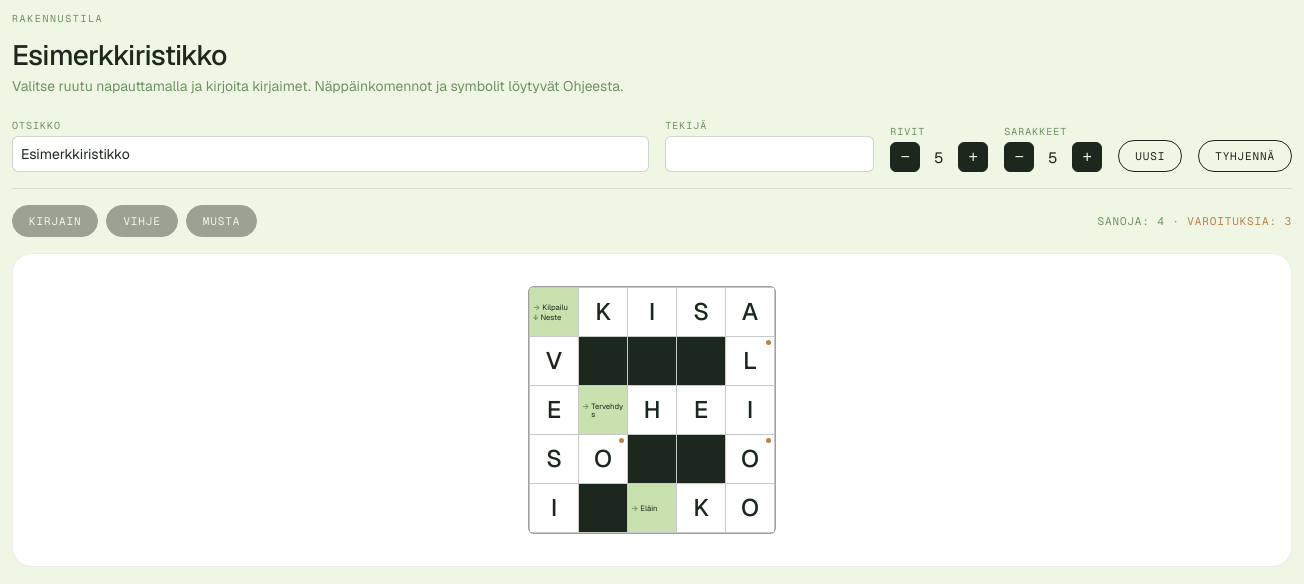
BuildMode — letter entry › types a letter into the selected letter cell
The image size is (1304, 584).
Click the 1st cell "K". click: [603, 312]
box: [579,288,627,336]
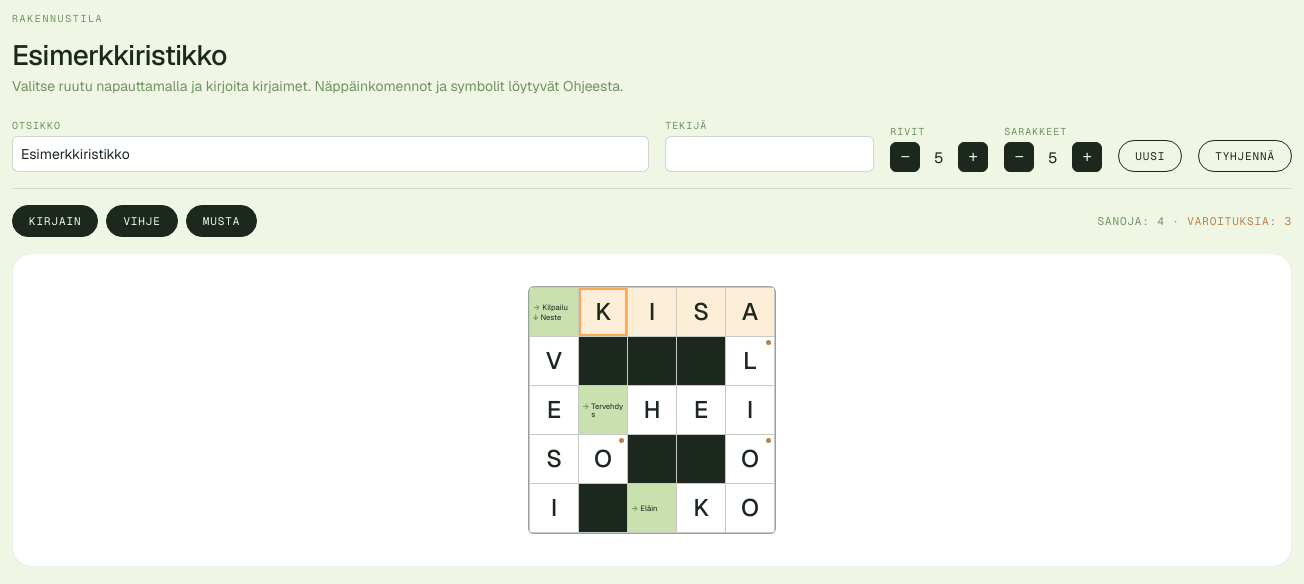
Press z in the element named "Ristikon ruudukko", box [12,253,1292,567]
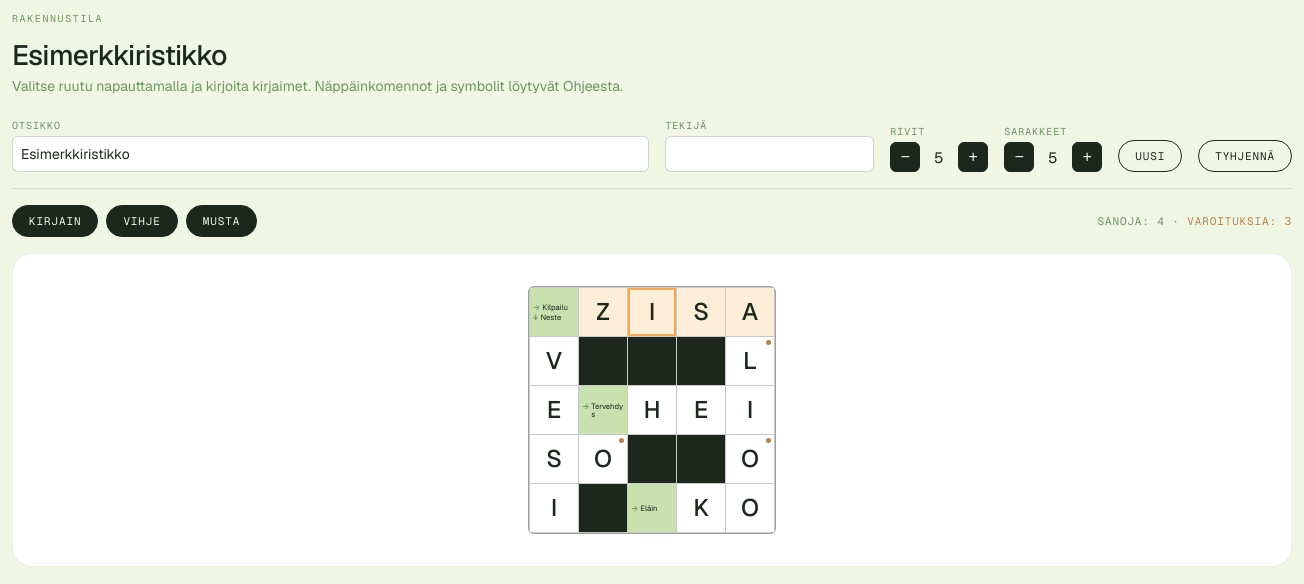
Expected: the cell "Z" is shown, [579,288,627,336]
